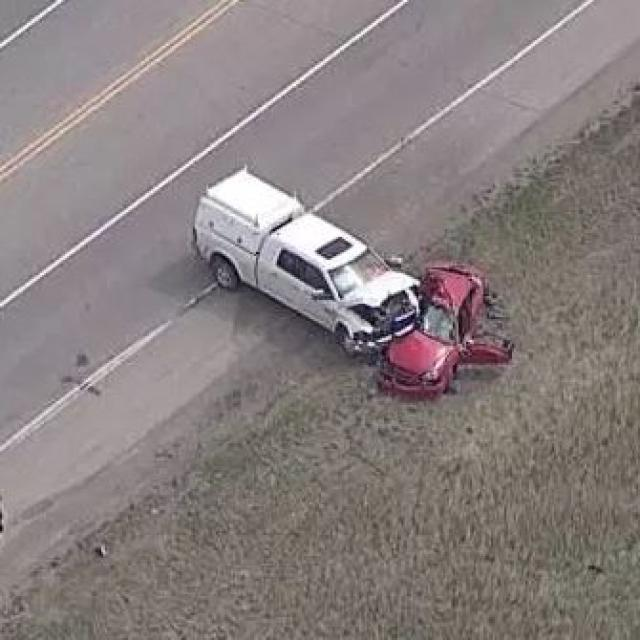traffic_incident: (191, 155, 491, 409)
